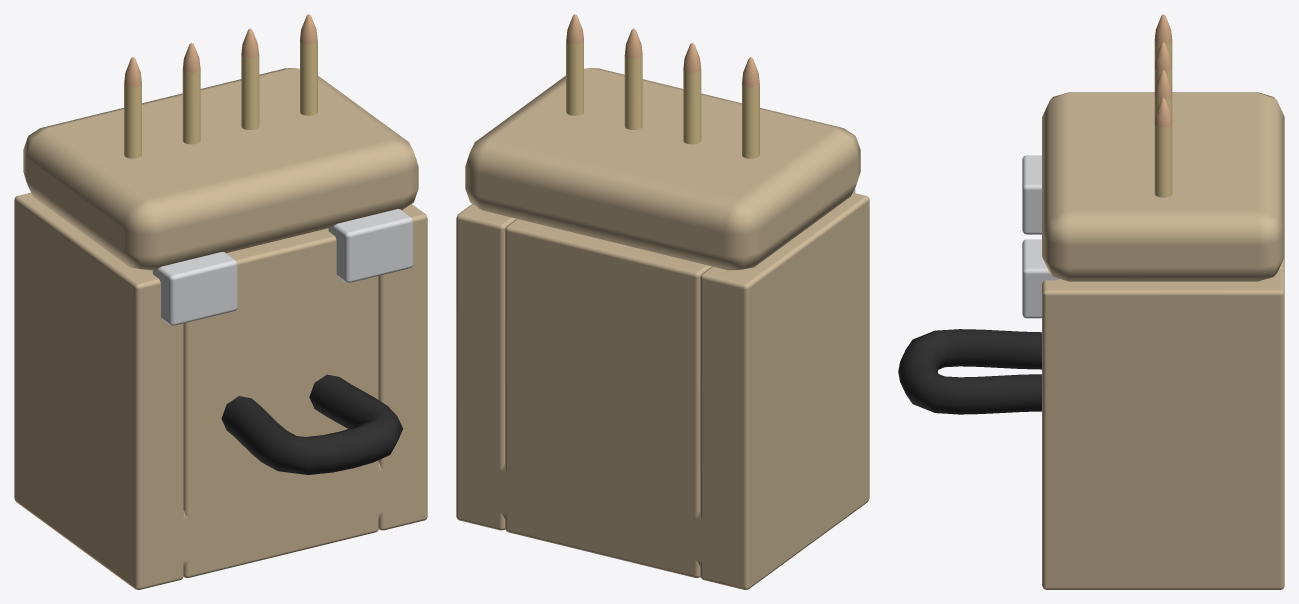
The model's file is fps-weapon-set-and-firing-range-precision-ammo-box-15eb02e4__19487.glb.
The picture shows the model from 3 angles, left to right: view 1: azimuth 30°, elevation 25°; view 2: azimuth 150°, elevation 25°; view 3: azimuth 270°, elevation 25°; orthographic projection. The views are drawn at different scales.
Parts seen in each view (by area): view 1: precision-ammo-box, lid; view 2: precision-ammo-box, lid; view 3: precision-ammo-box, lid.
Boxes of the visible parts, x1=… form: precision-ammo-box: x1=14, y1=14, x2=427, y2=589; lid: x1=23, y1=68, x2=418, y2=270; precision-ammo-box: x1=456, y1=14, x2=869, y2=589; lid: x1=465, y1=68, x2=860, y2=270; precision-ammo-box: x1=898, y1=14, x2=1284, y2=589; lid: x1=1042, y1=92, x2=1284, y2=281.
Bounding box in the file's own units: 0.15 × 0.233 × 0.1753.
